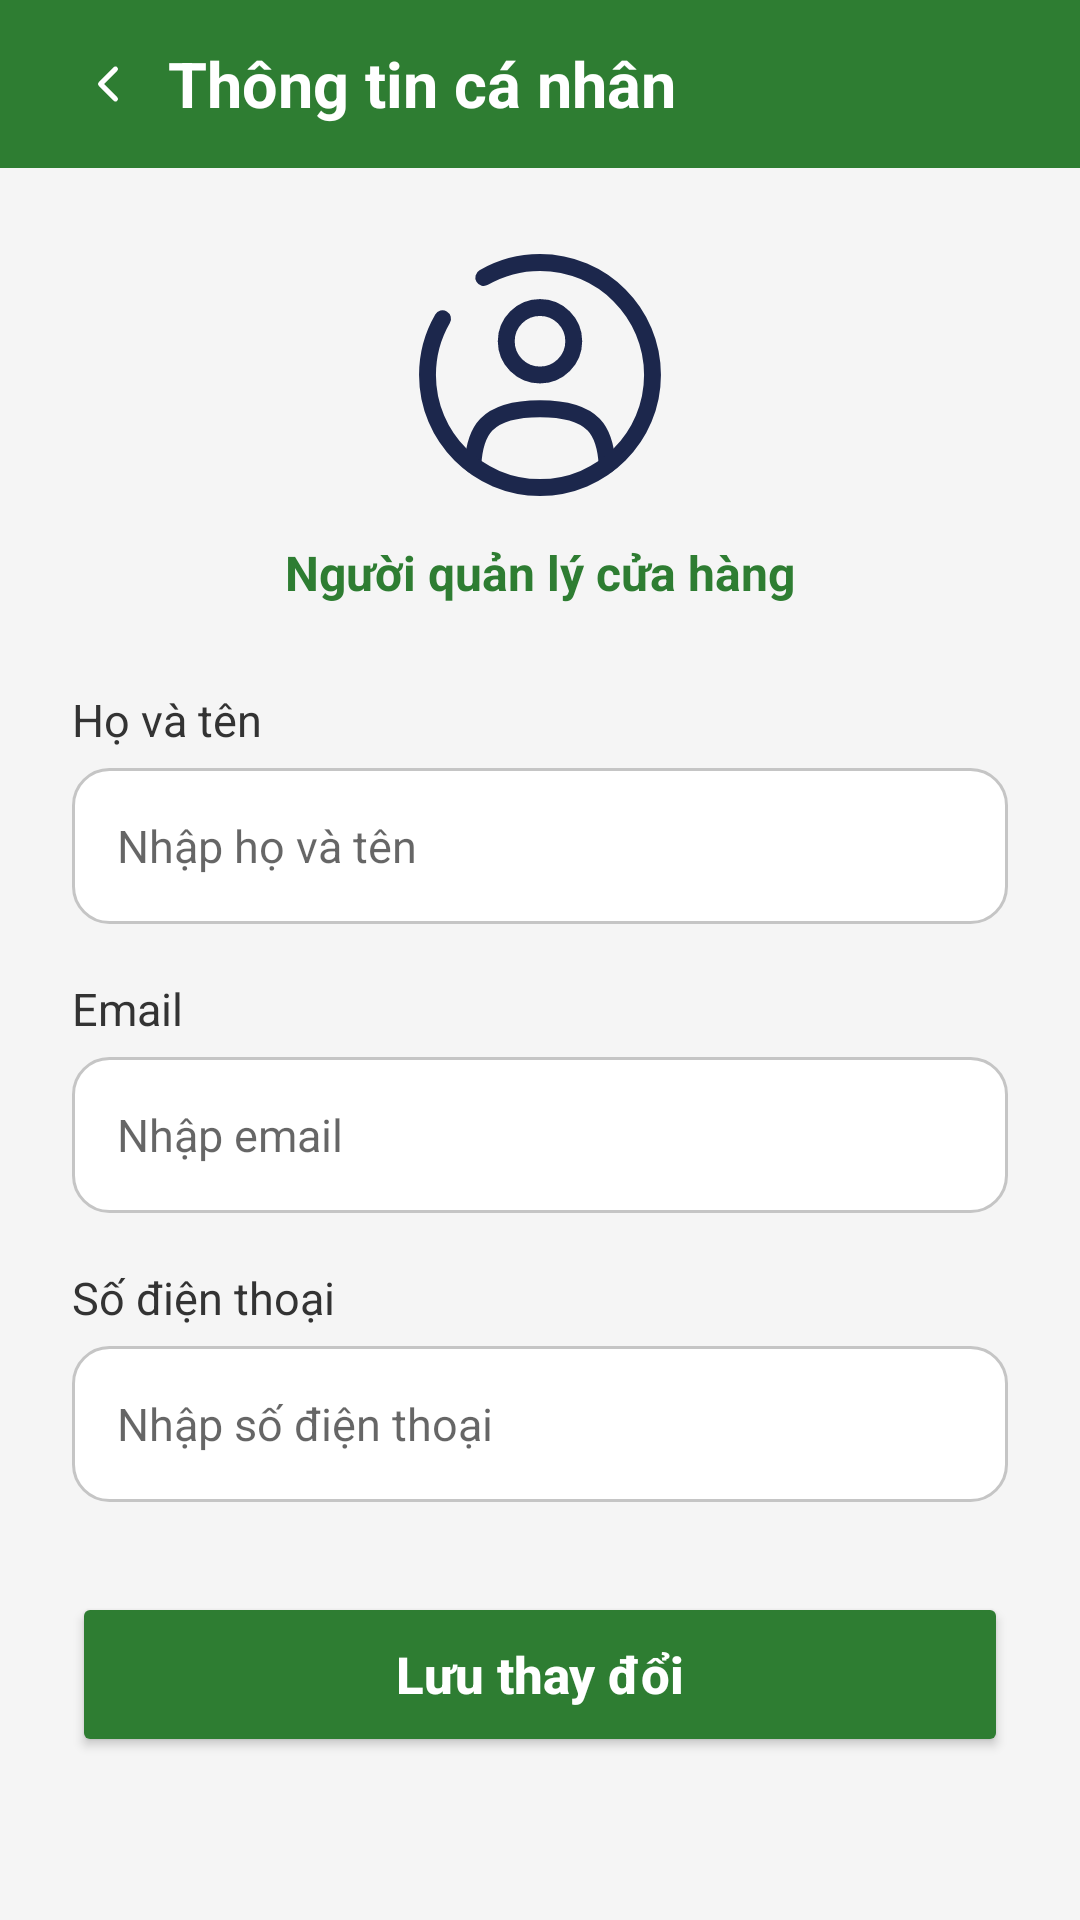

Where to tap for icons on this 1080 × 1920 app screen, as (x,y):
Quay lại: (108,84)
Ảnh đại diện: (540,375)
